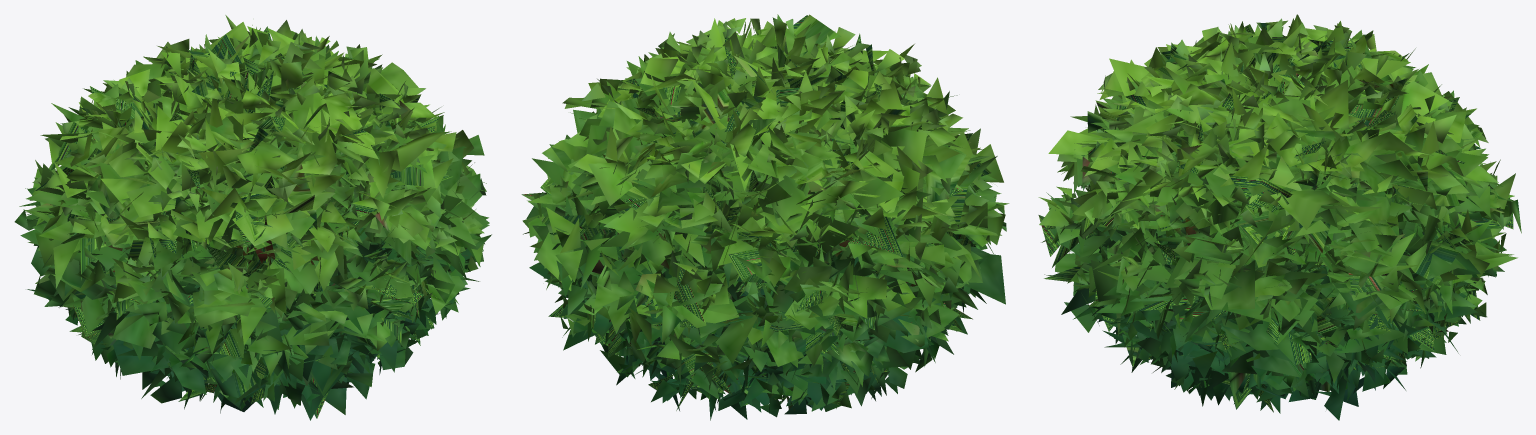
The model's file is bush.glb.
3 renders of one model, left to right at view 1: azimuth 30°, elevation 25°; view 2: azimuth 150°, elevation 25°; view 3: azimuth 270°, elevation 25°, orthographic. The views are drawn at different scales.
Parts seen in each view (by area): view 1: Mesh_0.6276; view 2: Mesh_0.6276; view 3: Mesh_0.6276.
Part boxes in pixels (x1,y1,x2,y2): Mesh_0.6276: (14,15,491,420); Mesh_0.6276: (521,14,1009,420); Mesh_0.6276: (1038,14,1521,420).
Size of the model in its own units: 1.07 by 0.8562 by 1.07.
1 material, 1 textured.
